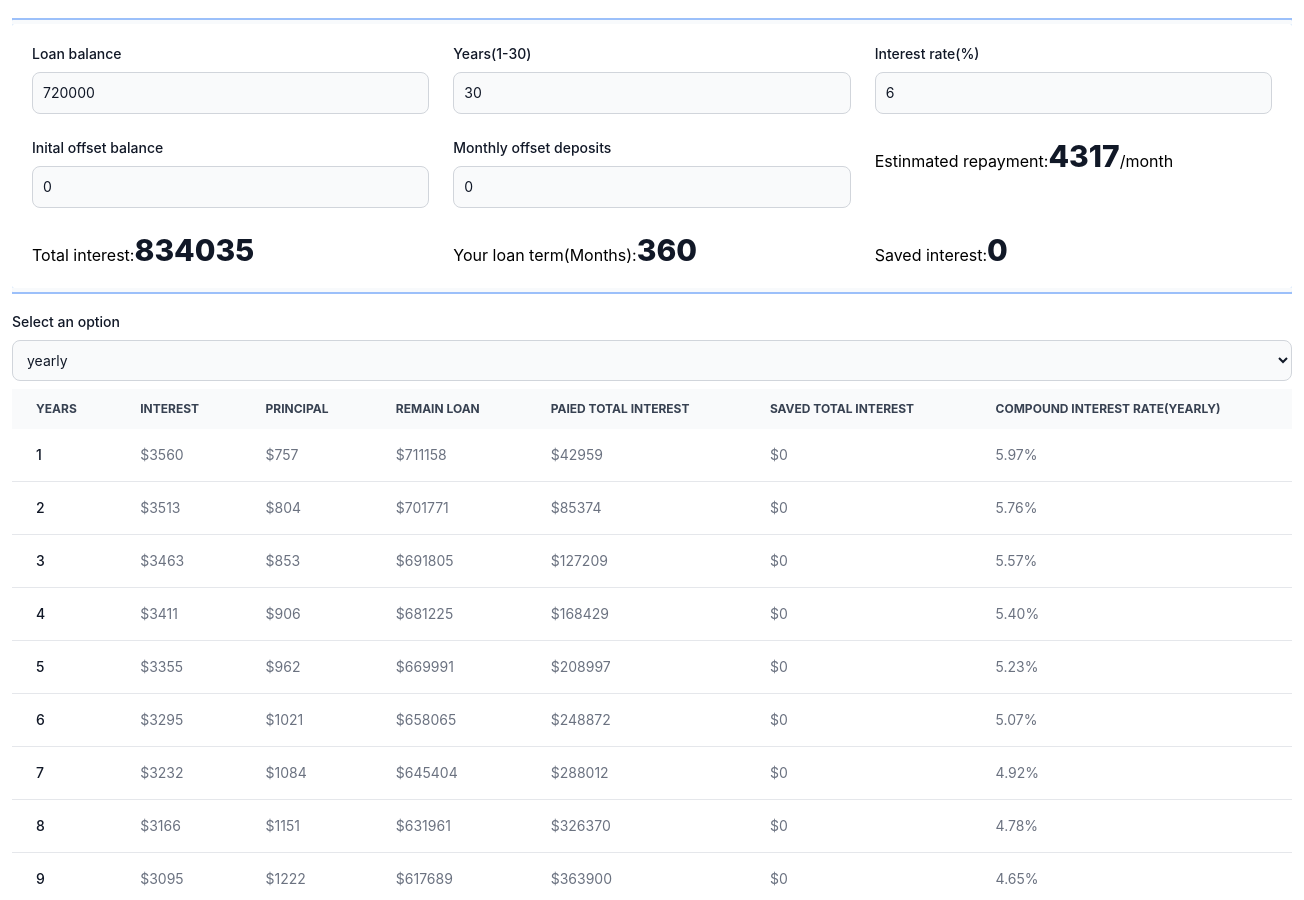
Test case: years less than 1, display error message
The width and height of the screenshot is (1304, 900).
Replace the text in the number field labelled "Years(1-30)" with "0" at (652, 93), box [453,72,851,114]
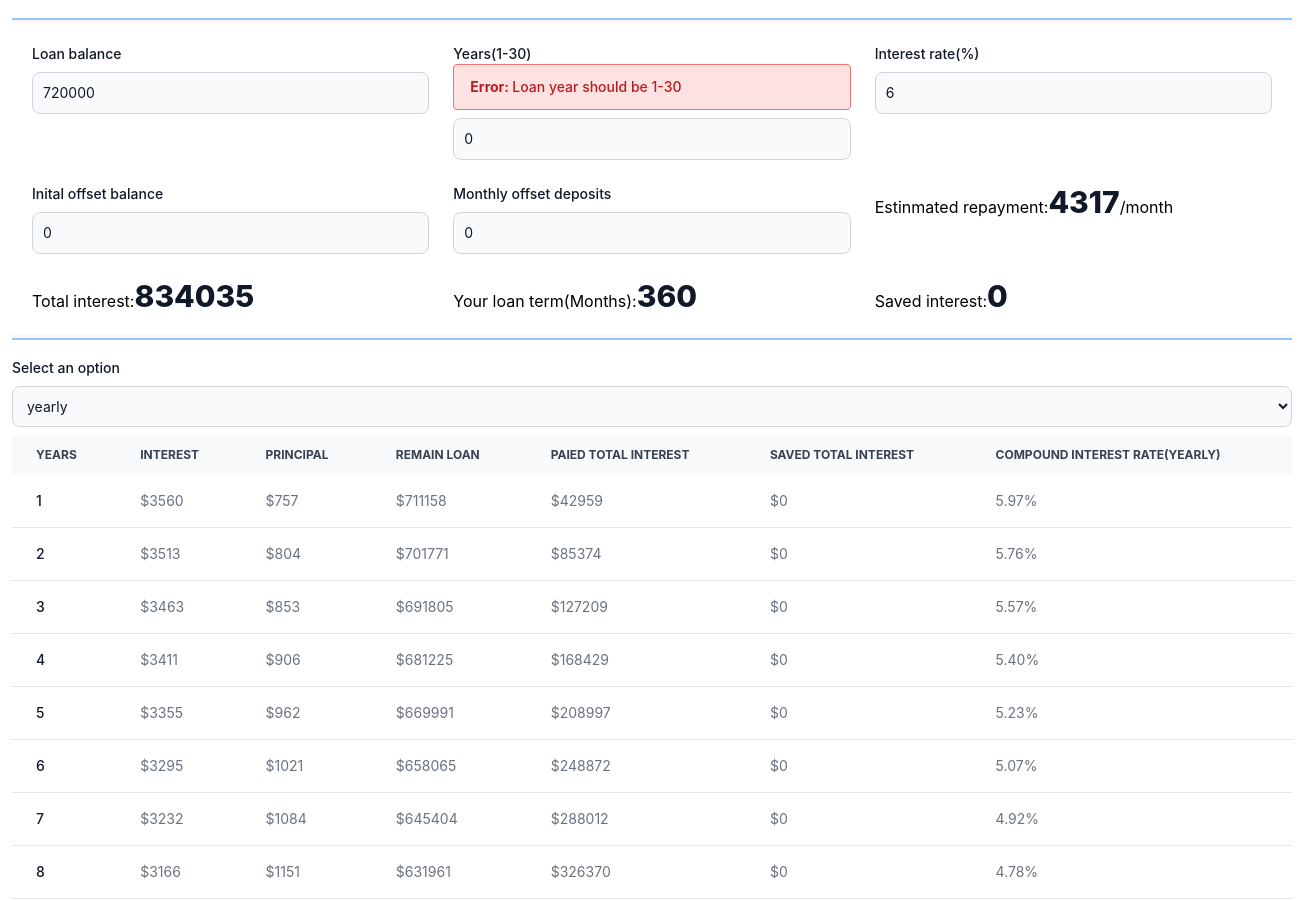
Check: the text "Error:" is shown, box [470,78,512,95]
